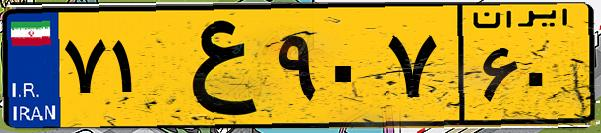0: (330, 28, 385, 110), (525, 38, 570, 115)
1: (110, 28, 158, 98)
6: (475, 38, 525, 113)
7: (385, 28, 445, 110), (57, 26, 110, 100)
9: (270, 28, 330, 110)
ع: (158, 12, 270, 120)
